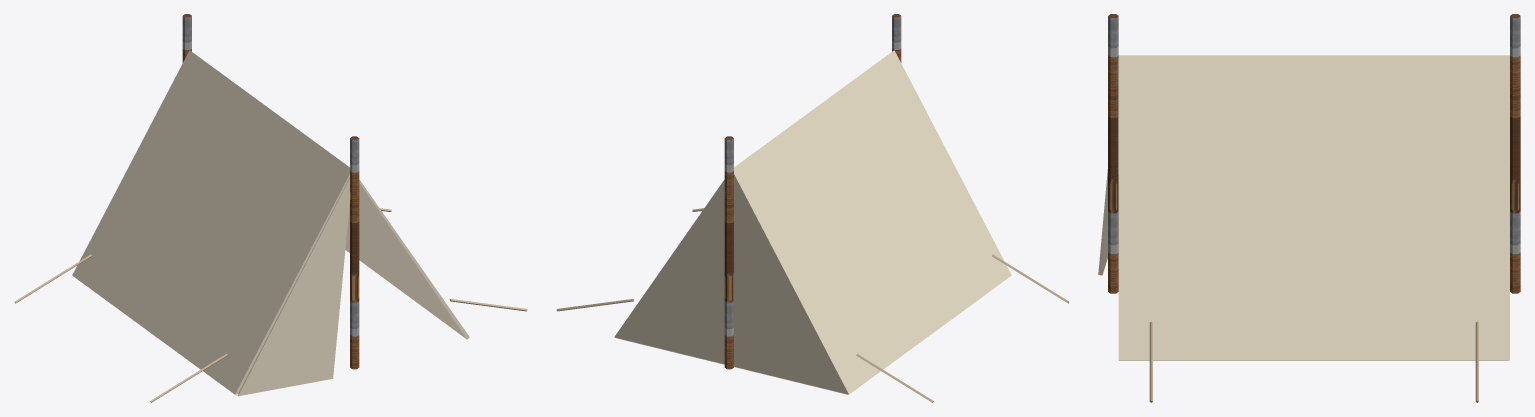
File: Zelt.gltf
3 renders of one model, left to right at view 1: azimuth 30°, elevation 25°; view 2: azimuth 150°, elevation 25°; view 3: azimuth 270°, elevation 25°, orthographic. The views are drawn at different scales.
Parts seen in each view (by area): view 1: Zelt; view 2: Zelt; view 3: Zelt.
Part boxes in pixels (x1,y1,x2,y2): Zelt: (14,14,527,402); Zelt: (556,14,1069,402); Zelt: (1098,14,1520,402).
Bounding box in the file's own units: 4.81 × 2.82 × 3.89.
Materials: 3 (1 with a texture image).
